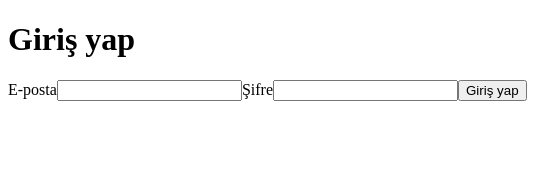
it: Login and role-based home › logs in, sends email and password, and shows the parent home page
Type " parent@mag.test " into the field labelled "E-posta". click: (149, 90)
box: [57,80,242,101]
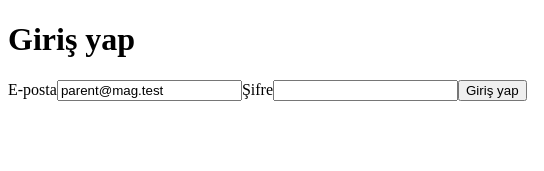
Type "secret" into the password field labelled "Şifre". click: (366, 90)
box: [273,80,458,101]
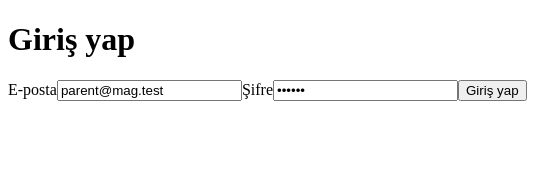
Click the button "Giriş yap". click: click(492, 90)
box: [458,80,527,101]
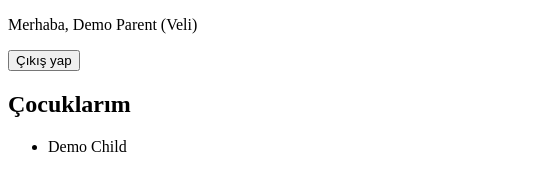
Check: the text "Merhaba, Demo Parent (Veli)" is shown, box [8,16,197,33]
Check: the list item "Demo Child" is shown, box [48,138,127,155]
Check: the heading "Çocuklarım" is shown, box [8,91,131,117]
